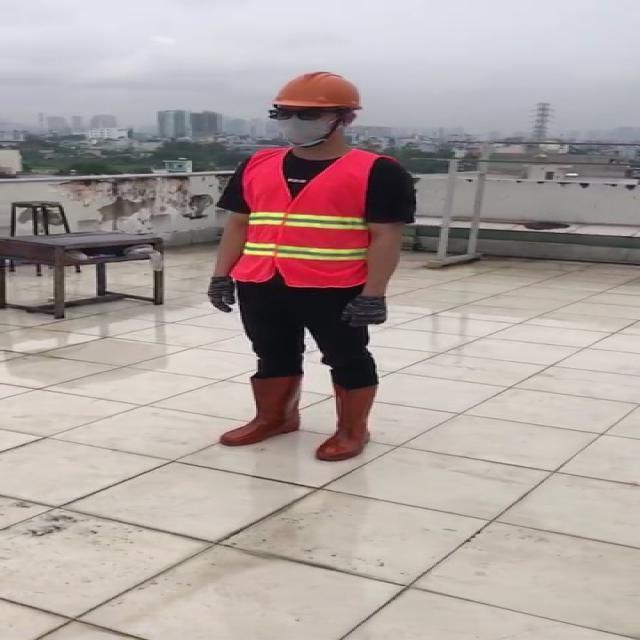gloves: (340, 296, 387, 327), (207, 276, 236, 313)
goggles: (267, 109, 352, 121)
helmet: (269, 67, 367, 111)
safety_vest: (231, 151, 393, 287)
